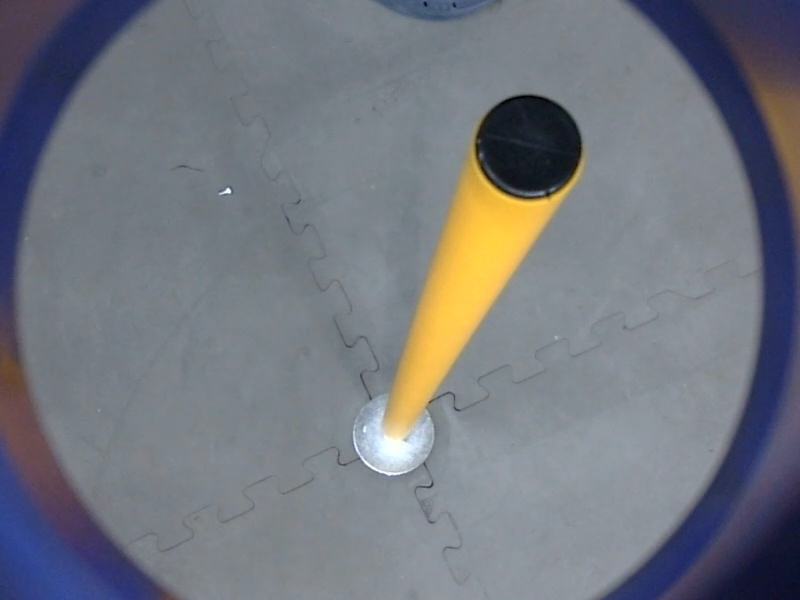tip: (466, 85, 593, 207)
